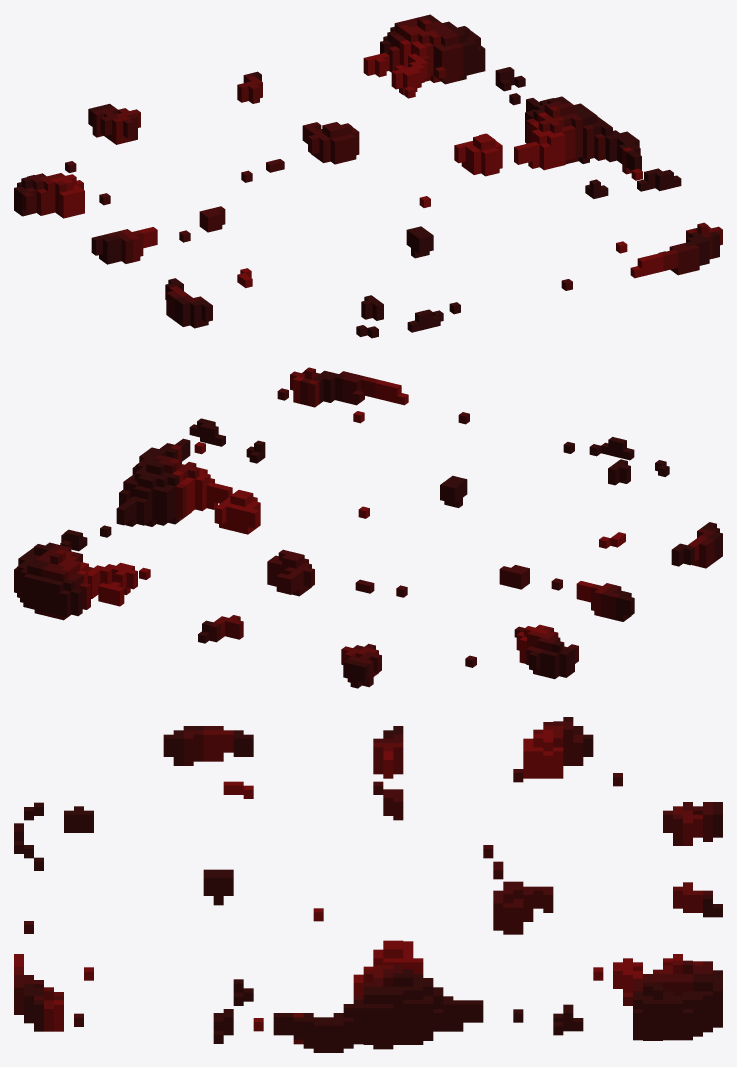
The model's file is explosion_06.obj.
3 renders of one model, top to bottom at view 1: azimuth 30°, elevation 25°; view 2: azimuth 150°, elevation 25°; view 3: azimuth 270°, elevation 25°, orthographic. The views are drawn at different scales.
Visible parts, largest first — view 1: m_300000, m_440000, m_750000, m_5d0000; view 2: m_300000, m_440000, m_750000, m_5d0000; view 3: m_300000, m_440000, m_750000, m_5d0000.
Part boxes in pixels (box(x1,y1,x2,y2)): m_300000: box(14, 14, 719, 338); m_440000: box(22, 16, 712, 320); m_750000: box(51, 40, 710, 288); m_5d0000: box(36, 19, 722, 296); m_300000: box(14, 370, 722, 688); m_440000: box(36, 371, 715, 687); m_750000: box(77, 376, 625, 663); m_5d0000: box(55, 367, 706, 675); m_300000: box(14, 717, 722, 1052); m_440000: box(14, 721, 712, 1026); m_750000: box(14, 729, 682, 1031); m_5d0000: box(14, 725, 702, 1044).
Bounding box in the file's own units: 72 × 7 × 71.
